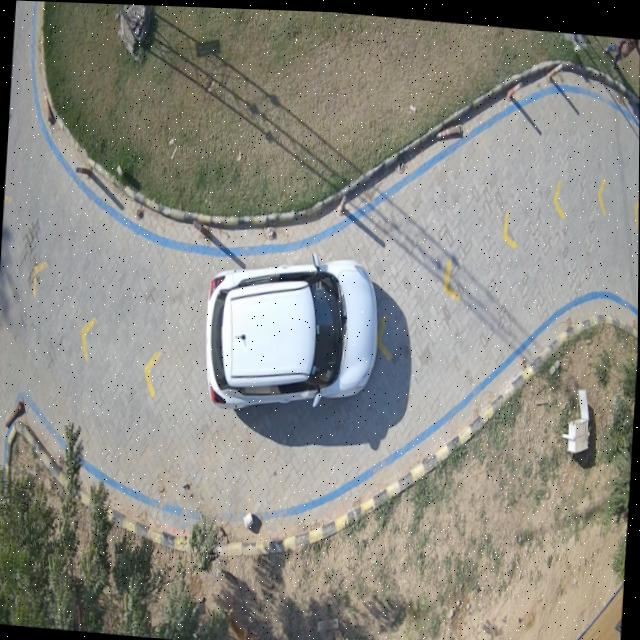car: (206, 256, 383, 407)
